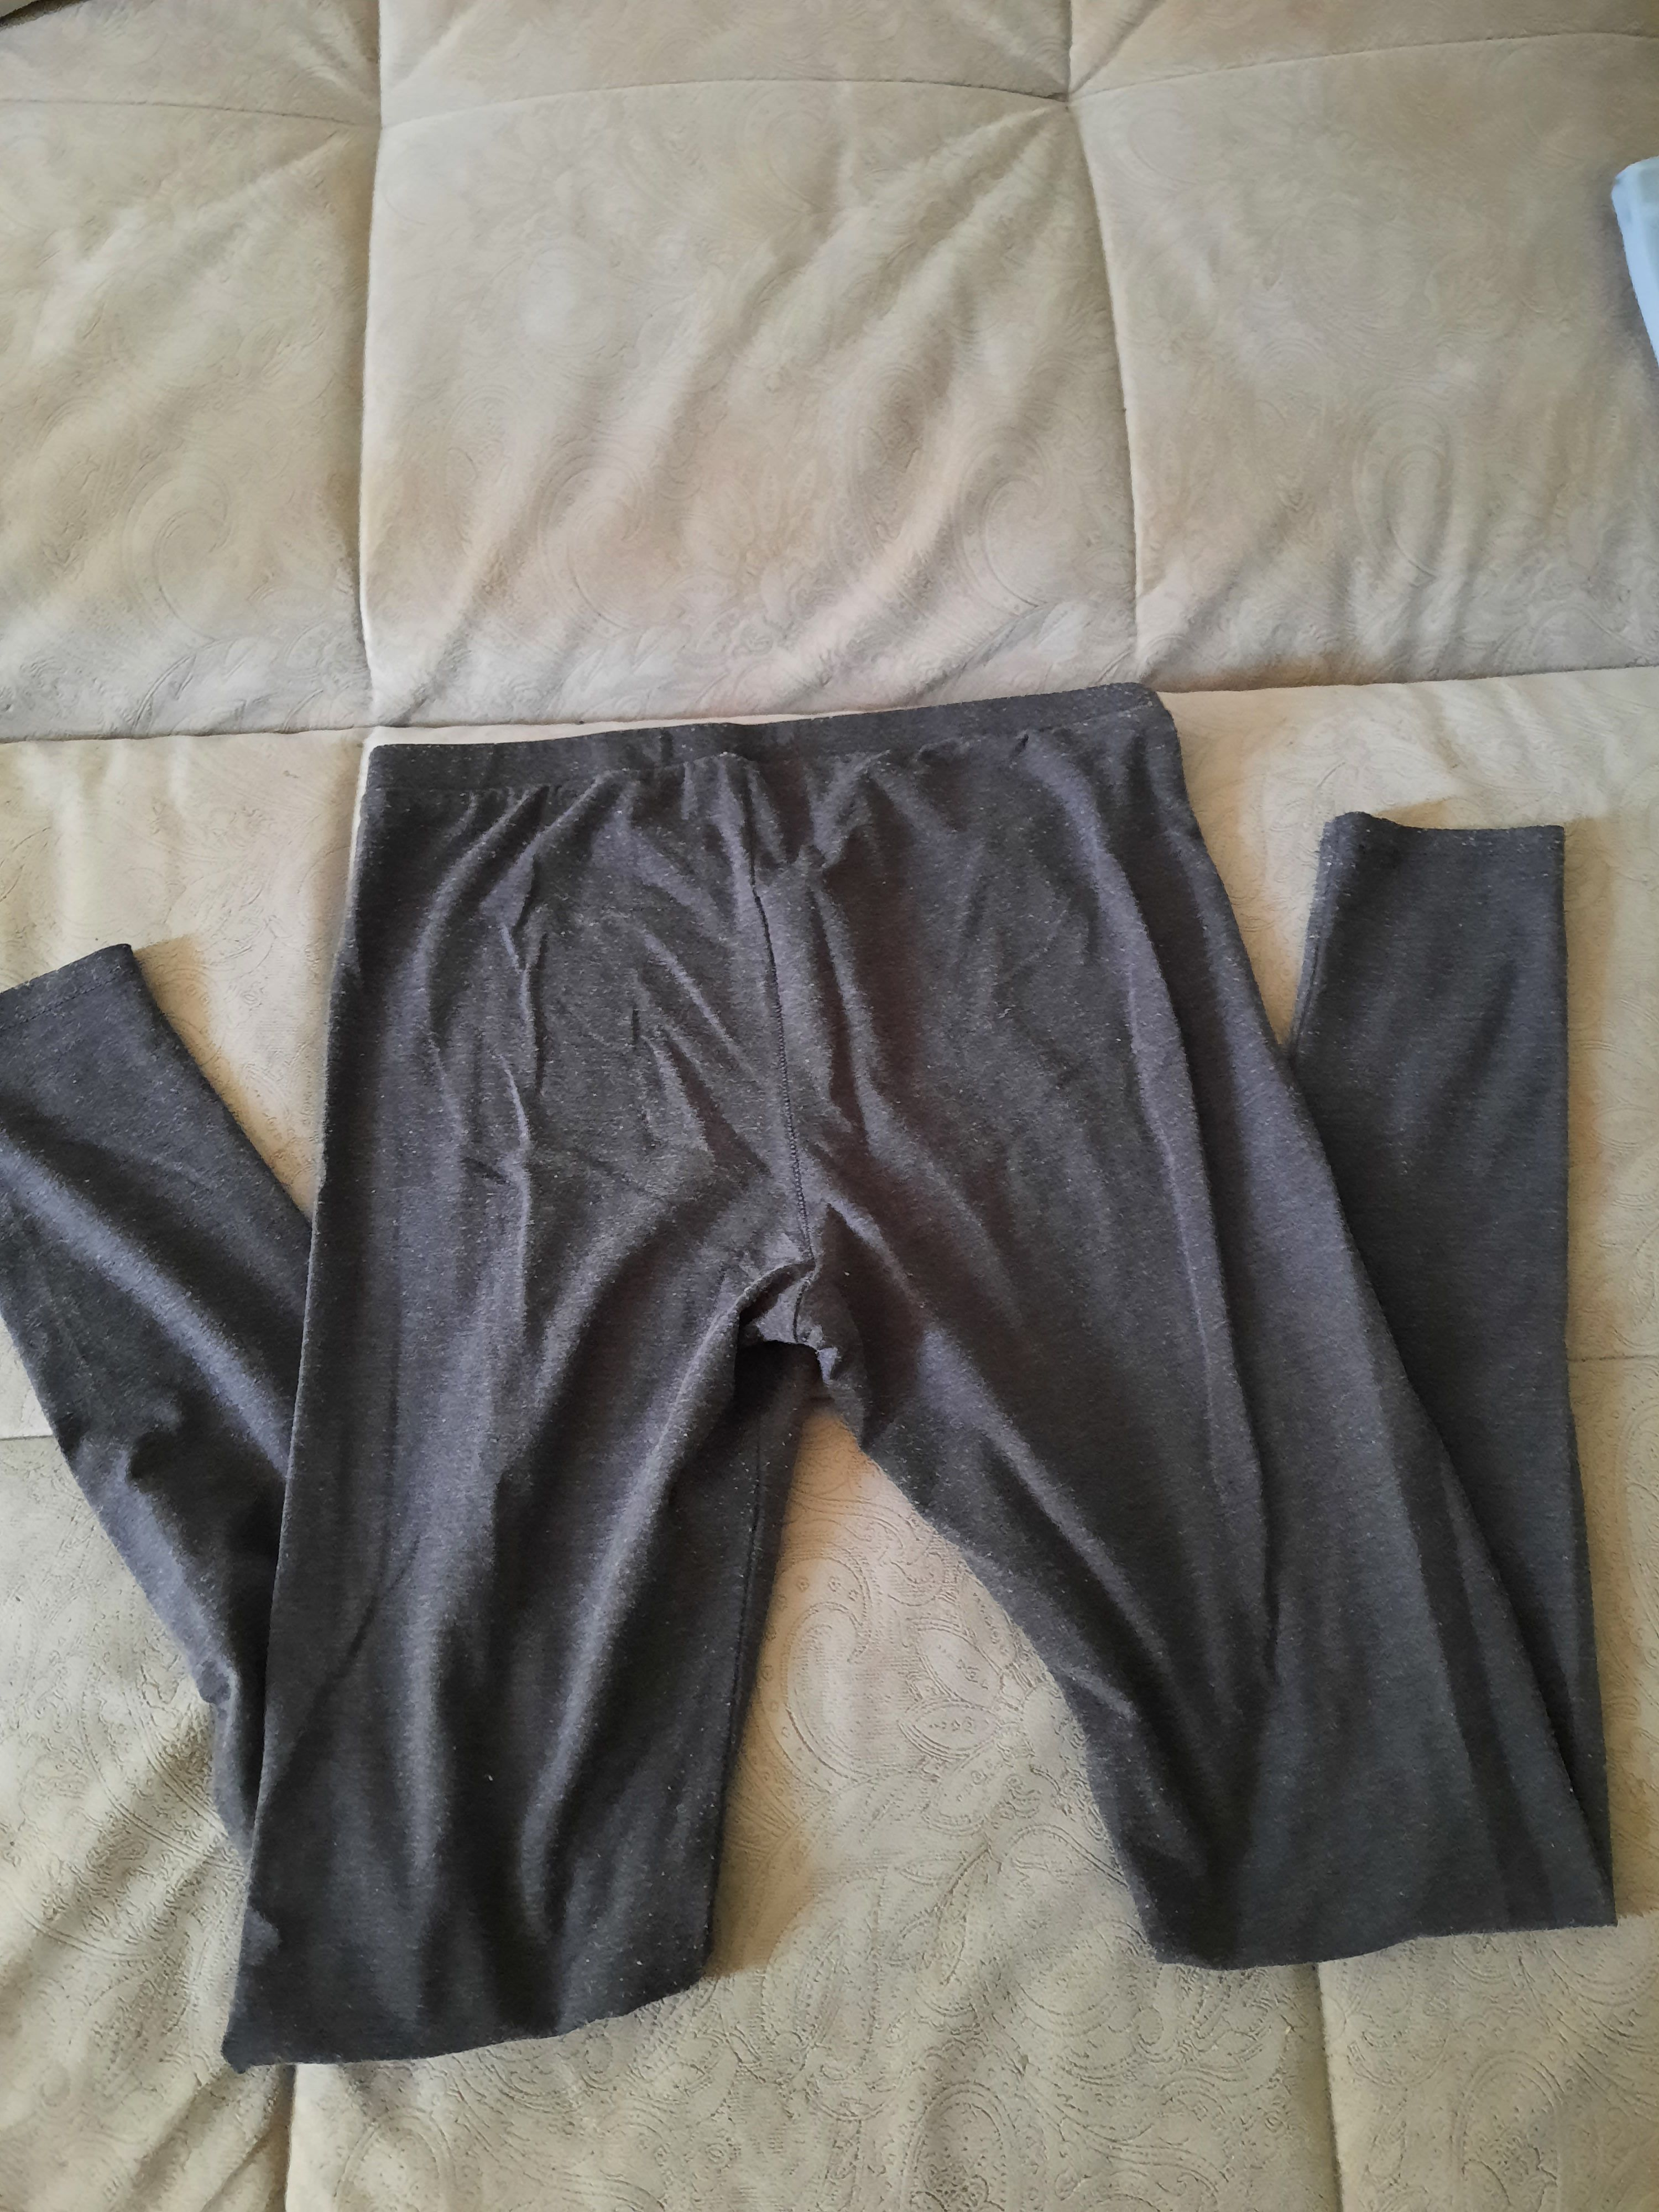clothes: (3, 697, 1659, 2057)
